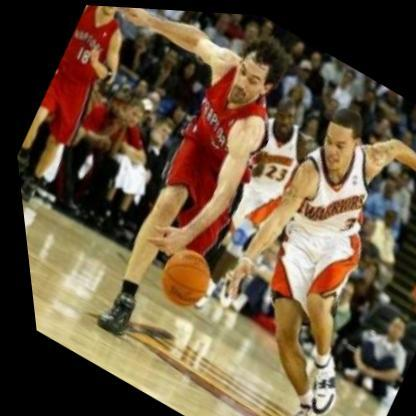basketball: (142, 238, 217, 313)
